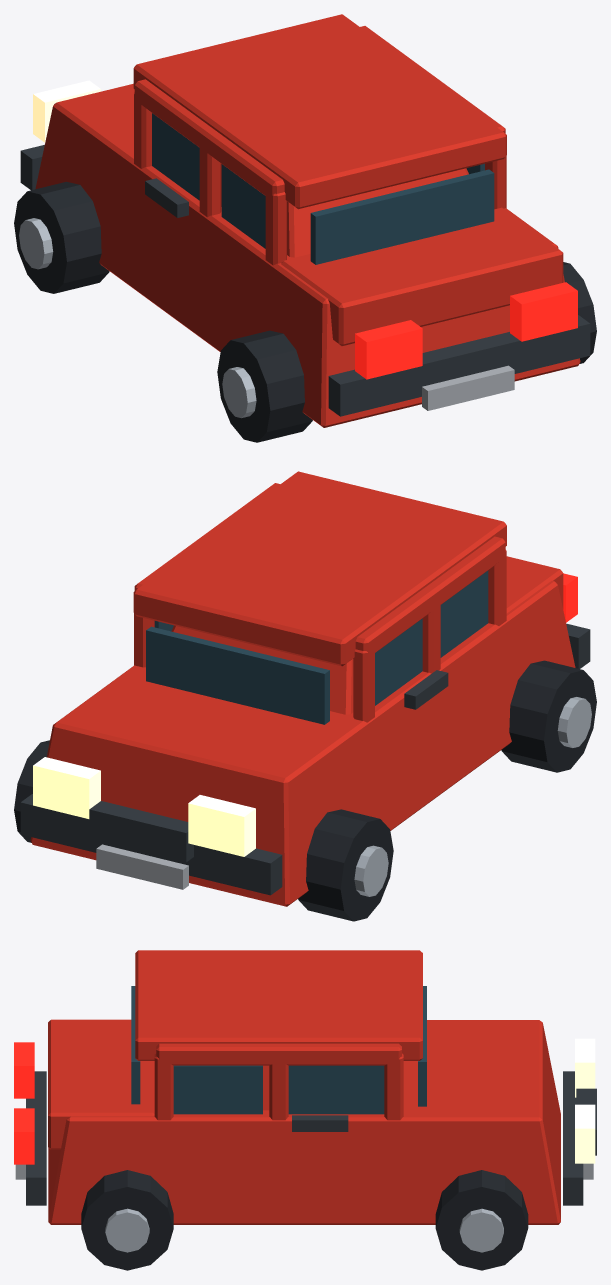
File: npc_toy_sedan.glb
3 renders of one model, top to bottom at view 1: azimuth 30°, elevation 25°; view 2: azimuth 150°, elevation 25°; view 3: azimuth 270°, elevation 25°, orthographic. The views are drawn at different scales.
Visible parts, largest first — view 1: NPC_Toy_Sedan_Paint, NPC_Toy_Sedan_Glass, NPC_Toy_Sedan_Trim, npc_toy_sedan_Wheel_RL_Tire, npc_toy_sedan_Wheel_FL_Tire, NPC_Toy_Sedan_Rear, NPC_Toy_Sedan_Silver, NPC_Toy_Sedan_Light, npc_toy_sedan_Wheel_RL_Hub, npc_toy_sedan_Wheel_FL_Hub, npc_toy_sedan_Wheel_RR_Tire; view 2: NPC_Toy_Sedan_Paint, NPC_Toy_Sedan_Glass, NPC_Toy_Sedan_Trim, npc_toy_sedan_Wheel_FL_Tire, npc_toy_sedan_Wheel_RL_Tire, NPC_Toy_Sedan_Light, NPC_Toy_Sedan_Silver, npc_toy_sedan_Wheel_FL_Hub, npc_toy_sedan_Wheel_RL_Hub, npc_toy_sedan_Wheel_FR_Tire, NPC_Toy_Sedan_Rear; view 3: NPC_Toy_Sedan_Paint, NPC_Toy_Sedan_Glass, npc_toy_sedan_Wheel_FR_Tire, npc_toy_sedan_Wheel_RR_Tire, NPC_Toy_Sedan_Trim, NPC_Toy_Sedan_Rear, NPC_Toy_Sedan_Light, npc_toy_sedan_Wheel_FR_Hub, npc_toy_sedan_Wheel_RR_Hub.
Part boxes in pixels (<box>): NPC_Toy_Sedan_Paint: <box>35,14,580,427</box>; NPC_Toy_Sedan_Glass: <box>152,113,494,264</box>; NPC_Toy_Sedan_Trim: <box>20,145,590,416</box>; npc_toy_sedan_Wheel_RL_Tire: <box>217,330,312,442</box>; npc_toy_sedan_Wheel_FL_Tire: <box>14,181,109,293</box>; NPC_Toy_Sedan_Rear: <box>355,282,577,379</box>; NPC_Toy_Sedan_Silver: <box>422,365,514,410</box>; NPC_Toy_Sedan_Light: <box>33,80,100,142</box>; npc_toy_sedan_Wheel_RL_Hub: <box>222,367,256,418</box>; npc_toy_sedan_Wheel_FL_Hub: <box>19,218,53,269</box>; npc_toy_sedan_Wheel_RR_Tire: <box>563,262,596,363</box>; NPC_Toy_Sedan_Paint: <box>30,471,575,906</box>; NPC_Toy_Sedan_Glass: <box>146,570,488,724</box>; NPC_Toy_Sedan_Trim: <box>20,623,590,895</box>; npc_toy_sedan_Wheel_FL_Tire: <box>298,809,393,921</box>; npc_toy_sedan_Wheel_RL_Tire: <box>501,660,596,772</box>; NPC_Toy_Sedan_Light: <box>33,757,255,856</box>; NPC_Toy_Sedan_Silver: <box>96,844,188,889</box>; npc_toy_sedan_Wheel_FL_Hub: <box>354,845,388,896</box>; npc_toy_sedan_Wheel_RL_Hub: <box>557,697,591,747</box>; npc_toy_sedan_Wheel_FR_Tire: <box>14,740,49,842</box>; NPC_Toy_Sedan_Rear: <box>563,573,577,622</box>; NPC_Toy_Sedan_Paint: <box>48,950,560,1224</box>; NPC_Toy_Sedan_Glass: <box>131,986,426,1114</box>; npc_toy_sedan_Wheel_FR_Tire: <box>435,1170,528,1270</box>; npc_toy_sedan_Wheel_RR_Tire: <box>81,1170,173,1270</box>; NPC_Toy_Sedan_Trim: <box>26,1071,596,1205</box>; NPC_Toy_Sedan_Rear: <box>14,1042,34,1164</box>; NPC_Toy_Sedan_Light: <box>575,1038,595,1163</box>; npc_toy_sedan_Wheel_FR_Hub: <box>459,1208,503,1252</box>; npc_toy_sedan_Wheel_RR_Hub: <box>105,1208,149,1252</box>.
Size of the model in its own units: 1.35 by 0.89 by 2.27.
